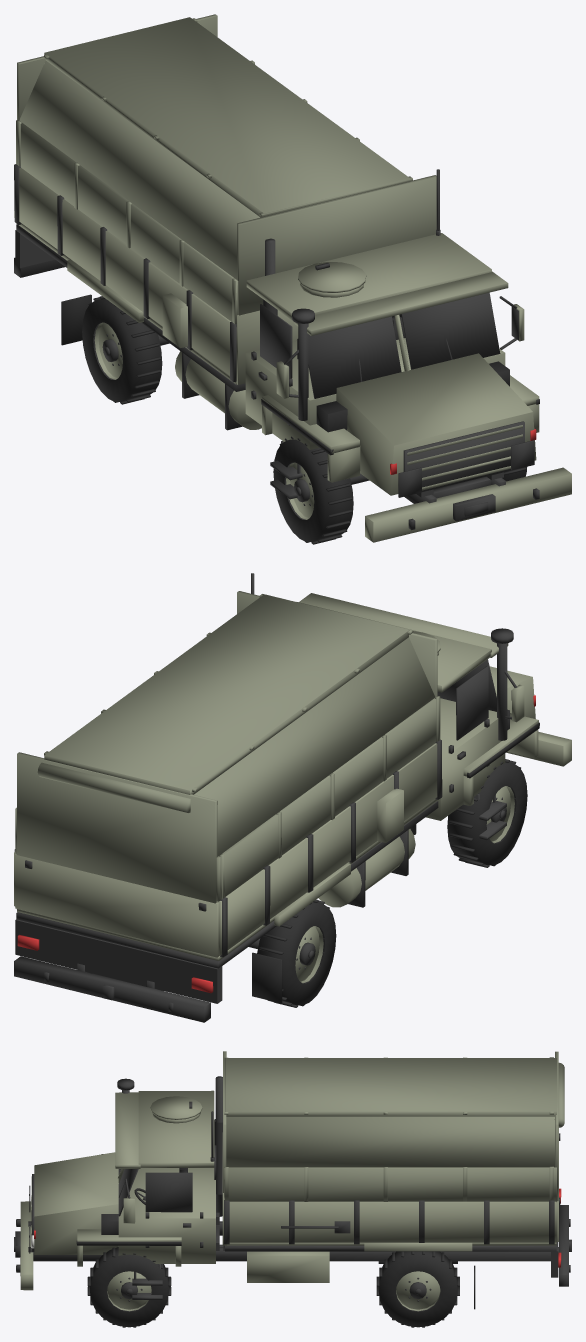
Rendered from truck.glb.
The picture shows the model from 3 angles, top to bottom: view 1: azimuth 30°, elevation 25°; view 2: azimuth 150°, elevation 25°; view 3: azimuth 270°, elevation 25°; orthographic projection. The views are drawn at different scales.
Parts seen in each view (by area): view 1: body, wheel_rr, wheel_fr; view 2: body, wheel_rr, wheel_fr; view 3: body, wheel_rl, wheel_fl.
Boxes of the visible parts, x1,y1,x2,y2 form: body: (14,14,571,542); wheel_rr: (82,296,162,404); wheel_fr: (273,436,353,544); body: (14,573,571,1022); wheel_rr: (257,899,336,1007); wheel_fr: (447,759,527,867); body: (14,1051,571,1309); wheel_rl: (376,1251,459,1327); wheel_fl: (87,1247,171,1327).
Bounding box in the file's own units: 2.9 × 3.27 × 7.73.
